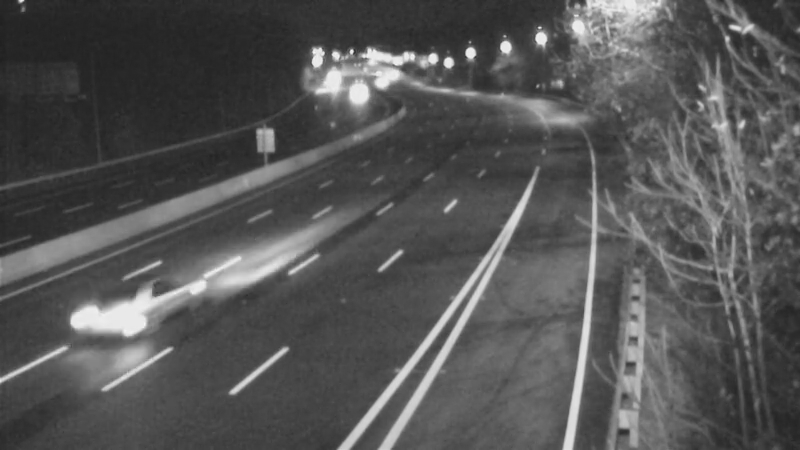vehicle: (70, 246, 180, 356), (354, 59, 404, 109), (331, 70, 381, 120), (307, 53, 357, 103)
